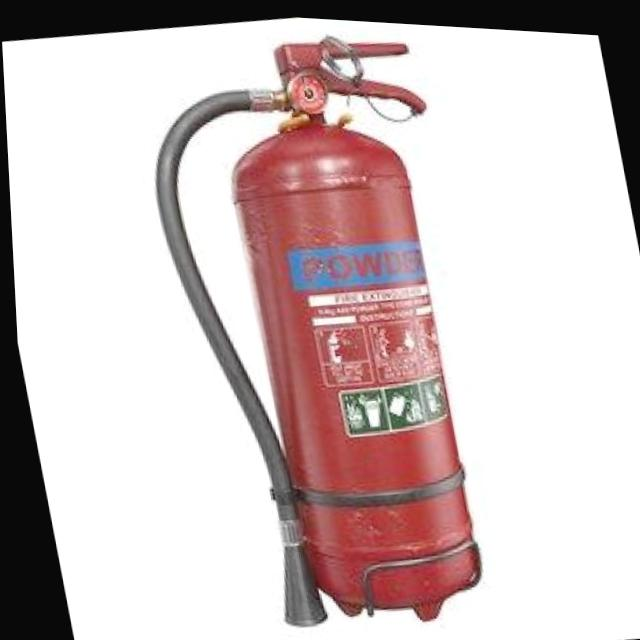FireExtinguisher: (117, 8, 518, 640)
